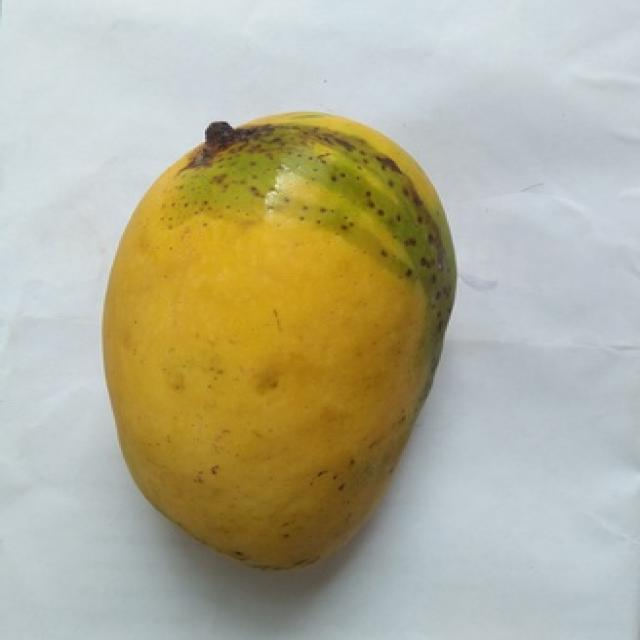Mango: (105, 113, 455, 567)
